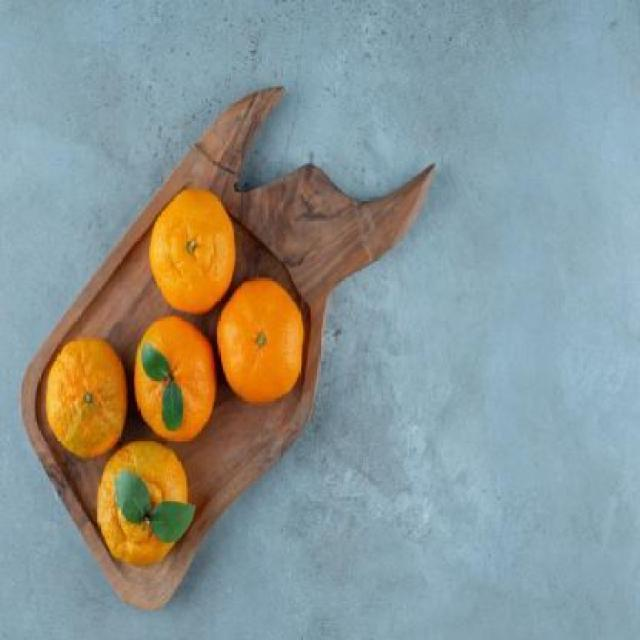Jeruk Sudah Matang: (99, 437, 193, 568), (136, 313, 219, 449), (44, 334, 127, 464), (220, 276, 305, 402), (152, 186, 236, 312)
